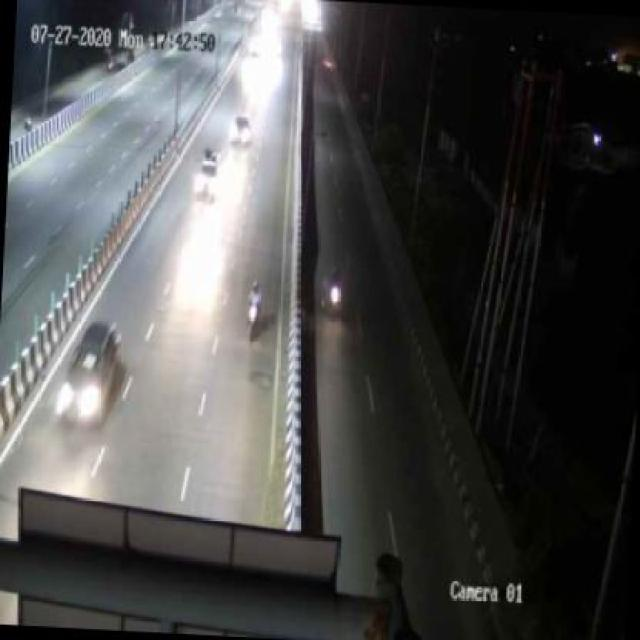car: (55, 322, 128, 424), (189, 144, 225, 210), (228, 103, 254, 149)
